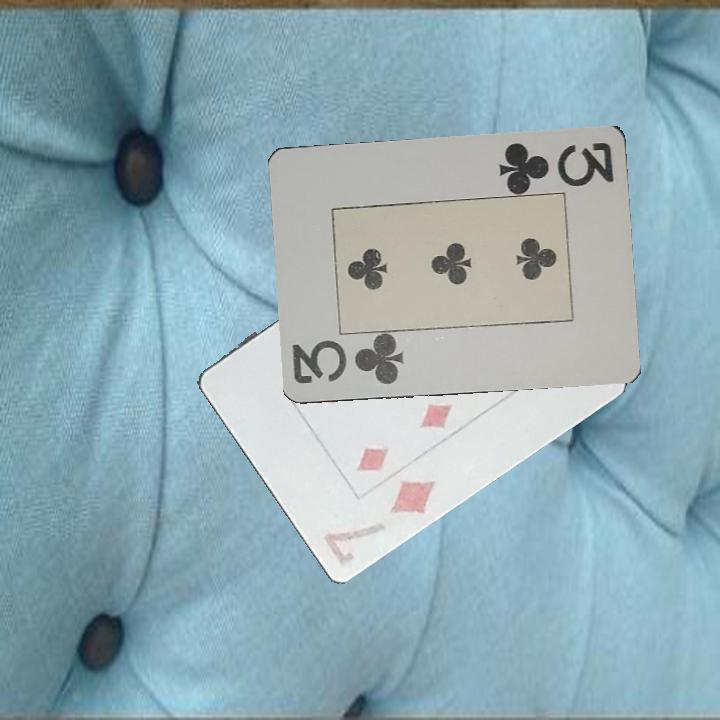3c: (495, 138, 620, 194), (289, 335, 408, 387)
7d: (319, 474, 440, 567)
